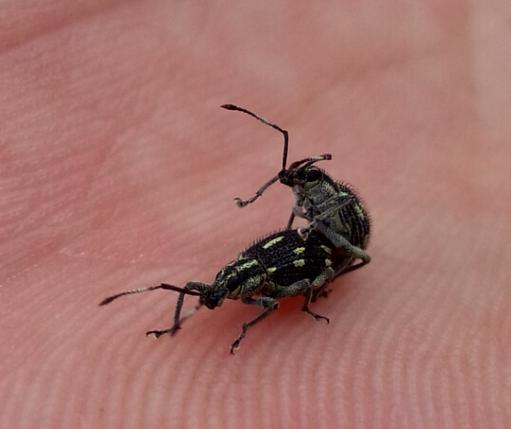Curculionidae: (96, 225, 349, 356), (220, 103, 371, 259)
